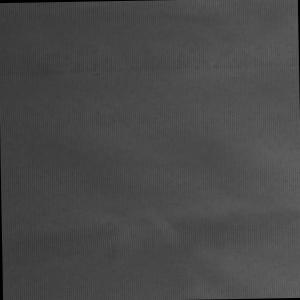Wrinkle: (1, 96, 300, 300)
